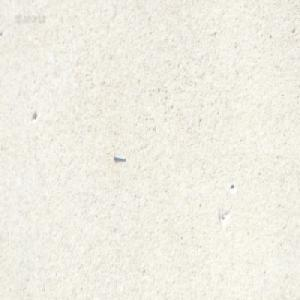Nail: (112, 152, 125, 161)
